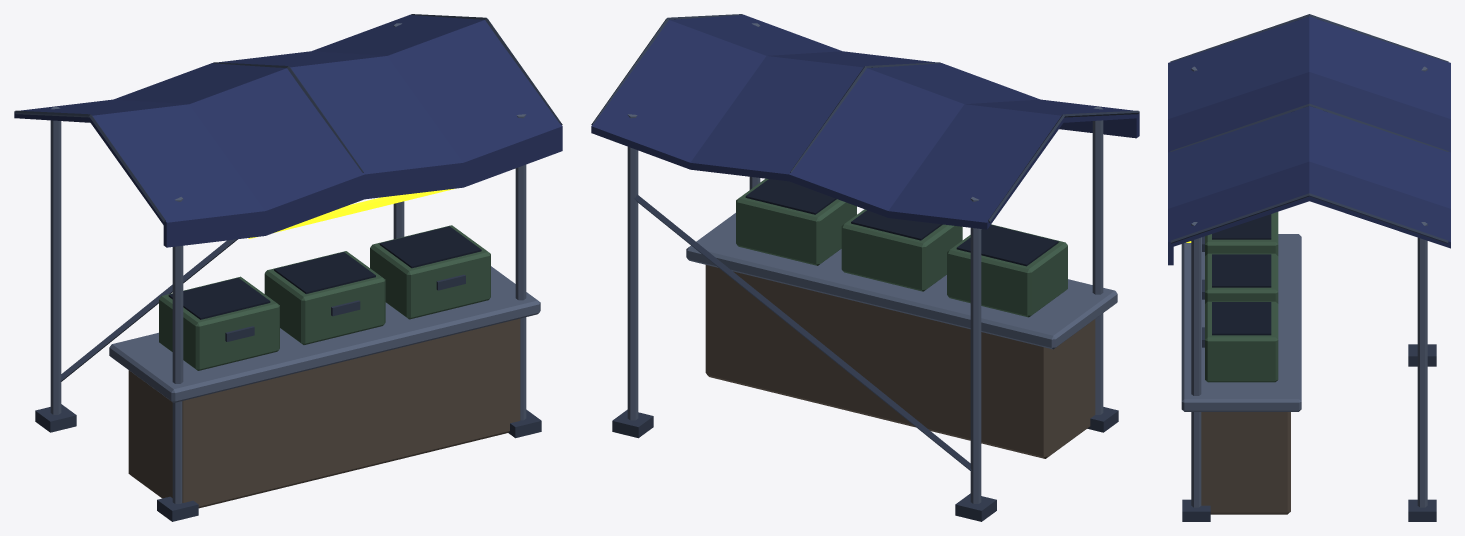
File: city_market_stall_canopy.glb
3 renders of one model, left to right at view 1: azimuth 30°, elevation 25°; view 2: azimuth 150°, elevation 25°; view 3: azimuth 270°, elevation 25°, orthographic. The views are drawn at different scales.
Parts seen in each view (by area): view 1: canopy, counter_base, counter, valance, crate.001, crate.002, crate, post, post.001, crate_opening.001, crate_opening.002, post.003 (+6 smaller); view 2: canopy, counter_base, counter, crate, crate.001, crate.002, post, post.002, post.001, rear_brace, crate_opening, crate_opening.002 (+5 smaller); view 3: canopy, counter_base, counter, crate.002, post.002, post.003, crate_opening.001, crate_opening.002, crate.001, crate, tarp_seam.002, crate_opening (+5 smaller).
Part boxes in pixels (x1,y1,x2,y2): canopy: [14, 14, 562, 229]; counter_base: [128, 318, 520, 508]; counter: [109, 266, 540, 402]; valance: [163, 127, 562, 247]; crate.001: [264, 251, 385, 344]; crate.002: [370, 225, 490, 319]; crate: [159, 276, 279, 370]; post: [50, 107, 61, 414]; post.001: [172, 197, 183, 503]; crate_opening.001: [274, 252, 375, 293]; crate_opening.002: [379, 226, 481, 268]; post.003: [515, 114, 526, 420]; canopy: [591, 14, 1139, 229]; counter_base: [705, 265, 1095, 458]; counter: [686, 213, 1117, 349]; crate: [947, 224, 1067, 317]; crate.001: [841, 209, 962, 291]; crate.002: [736, 178, 856, 265]; post: [970, 197, 981, 503]; post.002: [627, 114, 638, 420]; post.001: [1092, 107, 1103, 414]; rear_brace: [634, 194, 971, 470]; crate_opening: [956, 225, 1058, 266]; crate_opening.002: [745, 179, 836, 214]; canopy: [1168, 16, 1450, 248]; counter_base: [1201, 412, 1290, 514]; counter: [1181, 234, 1301, 411]; crate.002: [1205, 301, 1278, 382]; post.002: [1417, 222, 1427, 507]; post.003: [1191, 222, 1201, 507]; crate_opening.001: [1212, 254, 1271, 287]; crate_opening.002: [1212, 302, 1271, 335]; crate.001: [1205, 253, 1278, 303]; crate: [1205, 212, 1278, 255]; tarp_seam.002: [1170, 193, 1448, 243]; crate_opening: [1212, 214, 1271, 239].
Bounding box in the file's own units: 3.02 × 2.61 × 2.
